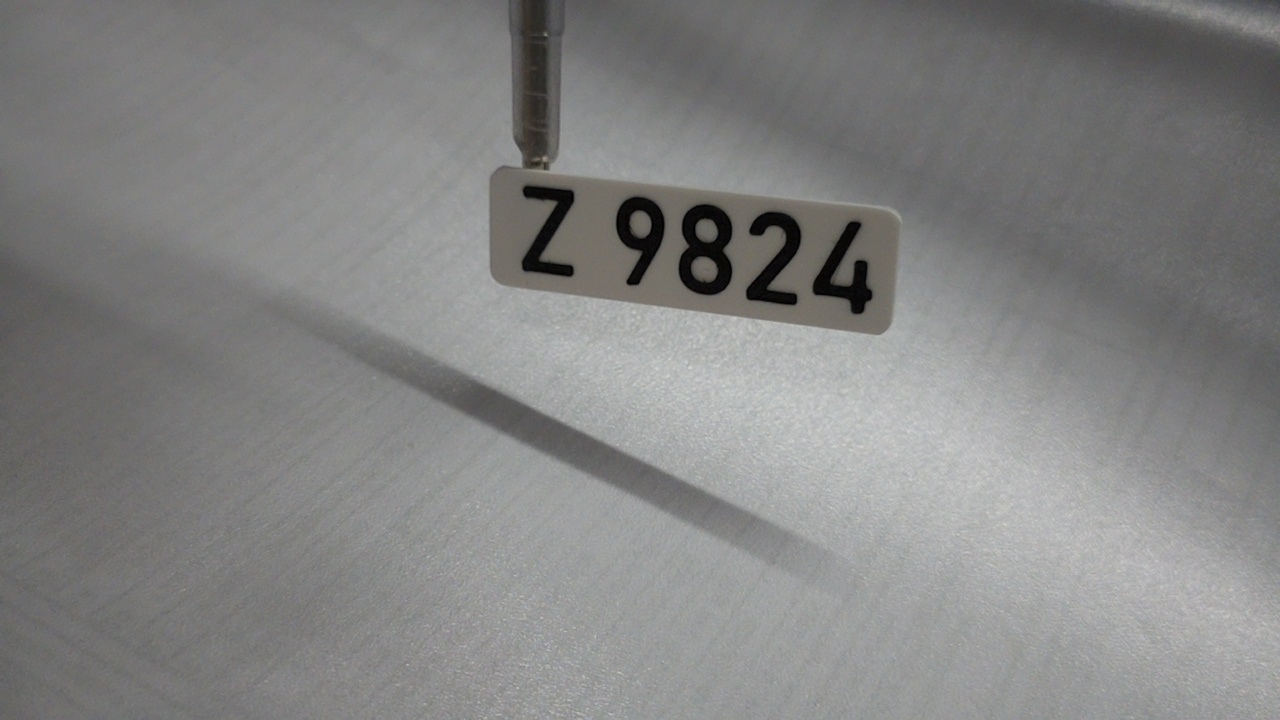license_plate: (485, 164, 905, 342)
